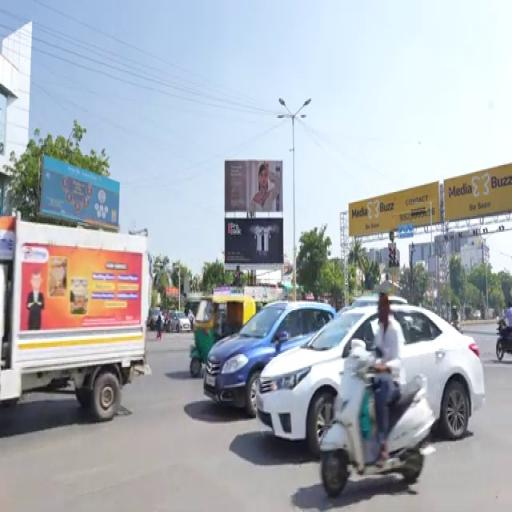Car: (257, 308, 378, 455), (204, 302, 335, 418), (339, 295, 378, 313), (169, 312, 191, 332), (147, 308, 159, 331)
